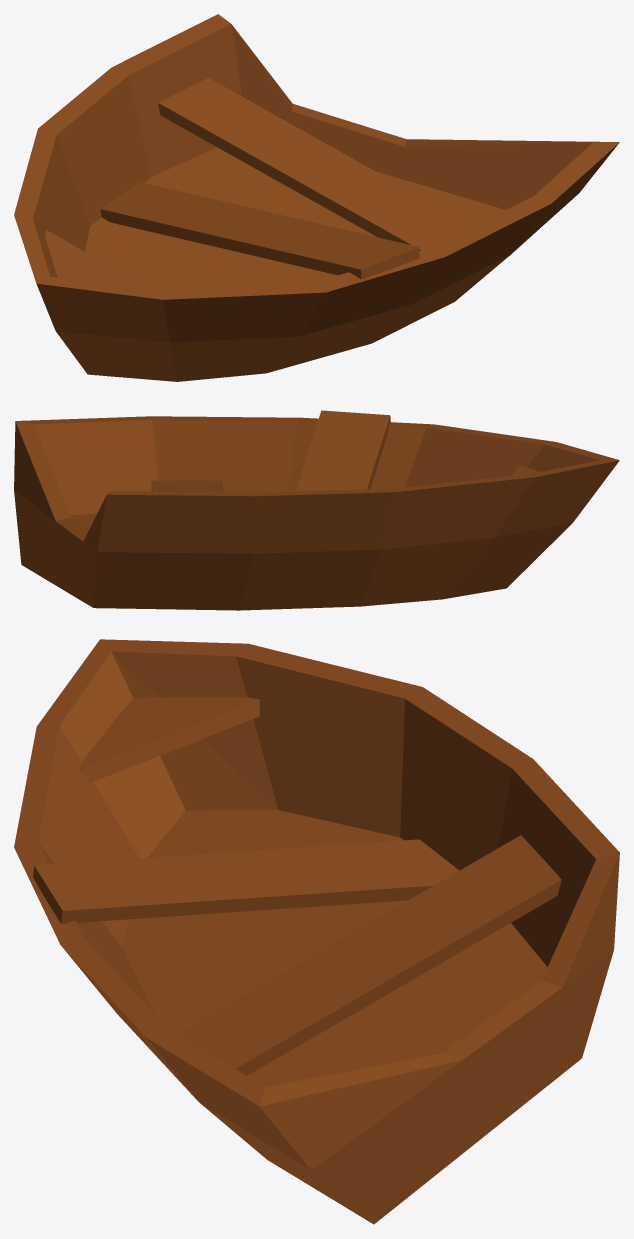
Rendered from WreckedBoat__tex.fbx.
The picture shows the model from 3 angles, top to bottom: view 1: azimuth 30°, elevation 25°; view 2: azimuth 150°, elevation 25°; view 3: azimuth 270°, elevation 25°; orthographic projection. The views are drawn at different scales.
Parts seen in each view (by area): view 1: WreckedBoat._tex; view 2: WreckedBoat._tex; view 3: WreckedBoat._tex.
Boxes of the visible parts, left/top/right/bottom form: WreckedBoat._tex: left=14, top=14, right=619, bottom=381; WreckedBoat._tex: left=14, top=410, right=619, bottom=610; WreckedBoat._tex: left=14, top=639, right=619, bottom=1224.
Bounding box in the file's own units: 2.24 × 0.7032 × 1.48.
